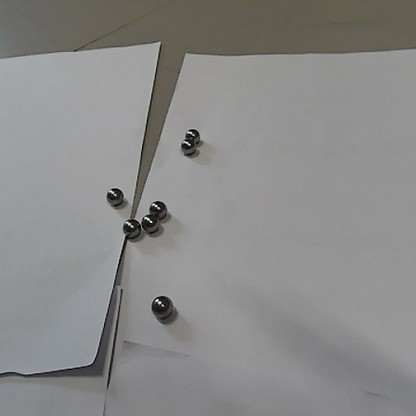ironball: (150, 295, 173, 318), (148, 198, 166, 218), (122, 217, 140, 237), (105, 186, 122, 207), (141, 212, 158, 231), (185, 126, 200, 143), (179, 139, 192, 154)
